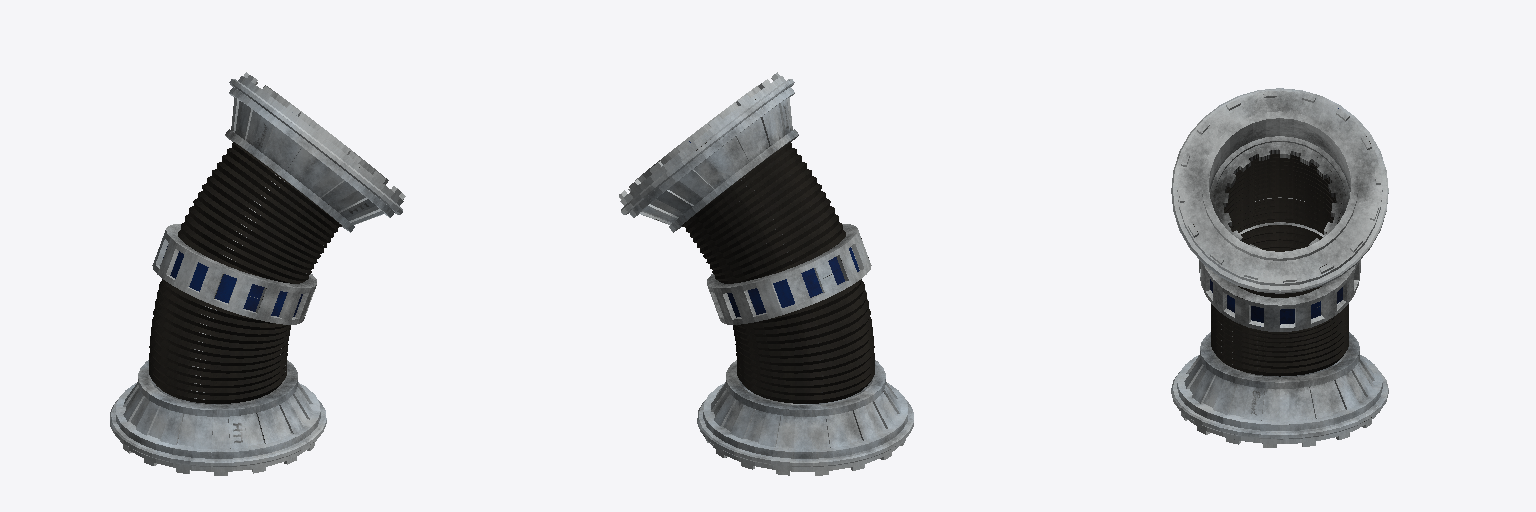
3 renders of one model, left to right at view 1: azimuth 30°, elevation 25°; view 2: azimuth 150°, elevation 25°; view 3: azimuth 270°, elevation 25°, orthographic.
Visible parts, largest first — view 1: Connector_45deg; view 2: Connector_45deg; view 3: Connector_45deg.
Part boxes in pixels (left/top/right/bottom): Connector_45deg: left=110, top=72, right=405, bottom=475; Connector_45deg: left=619, top=72, right=913, bottom=475; Connector_45deg: left=1171, top=88, right=1388, bottom=447.
Size of the model in its own units: 0.6229 by 0.764 by 0.4442.
1 materials, 1 textured.